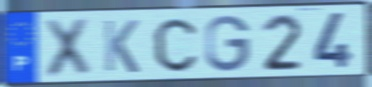2: (260, 12, 303, 72)
4: (312, 10, 358, 72)
C: (151, 16, 199, 74)
G: (204, 13, 253, 74)
K: (101, 18, 141, 75)
X: (43, 16, 93, 80)
